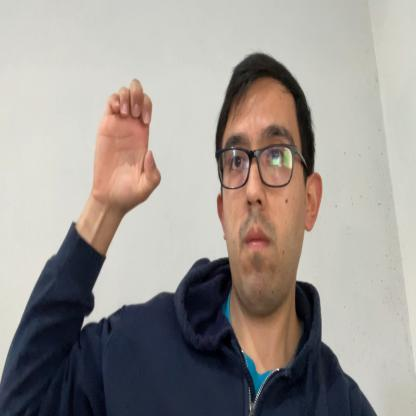E: (91, 79, 162, 208)
